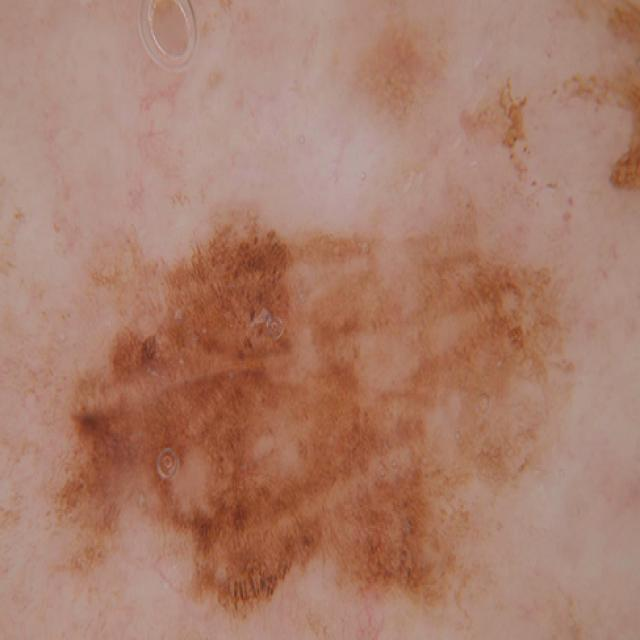Keratosis: (53, 168, 578, 637), (539, 0, 640, 205)
